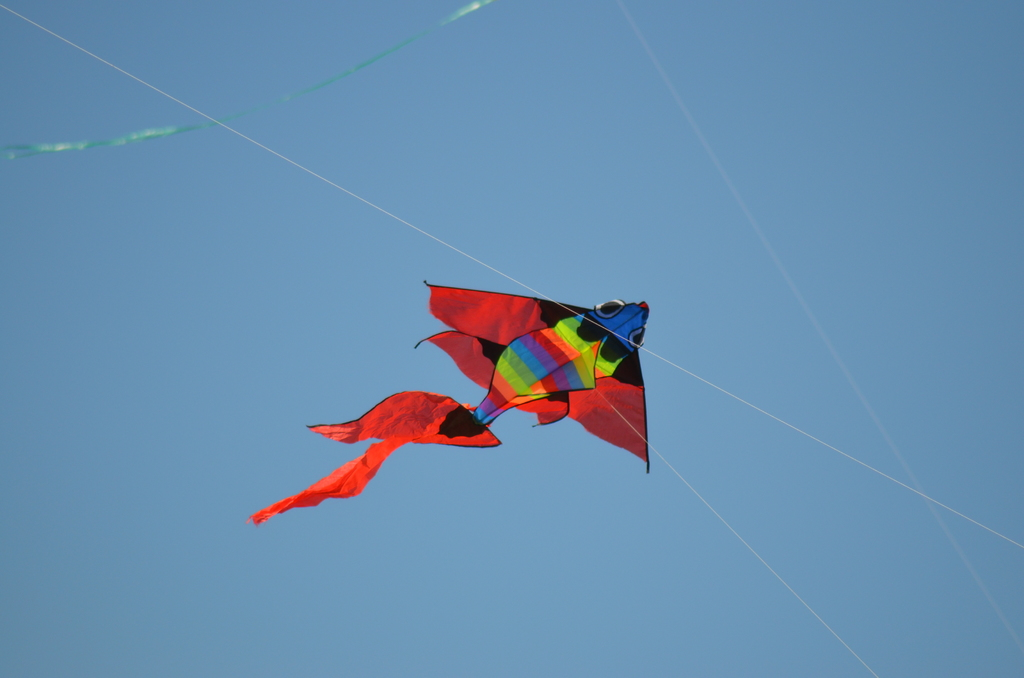kite: (233, 273, 664, 536)
